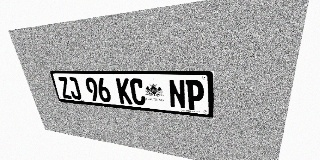6: (95, 78, 112, 103)
9: (84, 77, 100, 102)
C: (129, 78, 146, 106)
J: (66, 77, 82, 100)
K: (116, 78, 133, 104)
N: (168, 79, 186, 109)
P: (186, 80, 204, 111)
Z: (57, 77, 72, 99)
